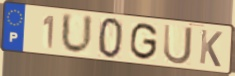0: (96, 16, 125, 60)
1: (42, 15, 55, 50)
G: (128, 21, 160, 62)
K: (198, 28, 224, 69)
U: (60, 11, 95, 56), (162, 22, 194, 66)
